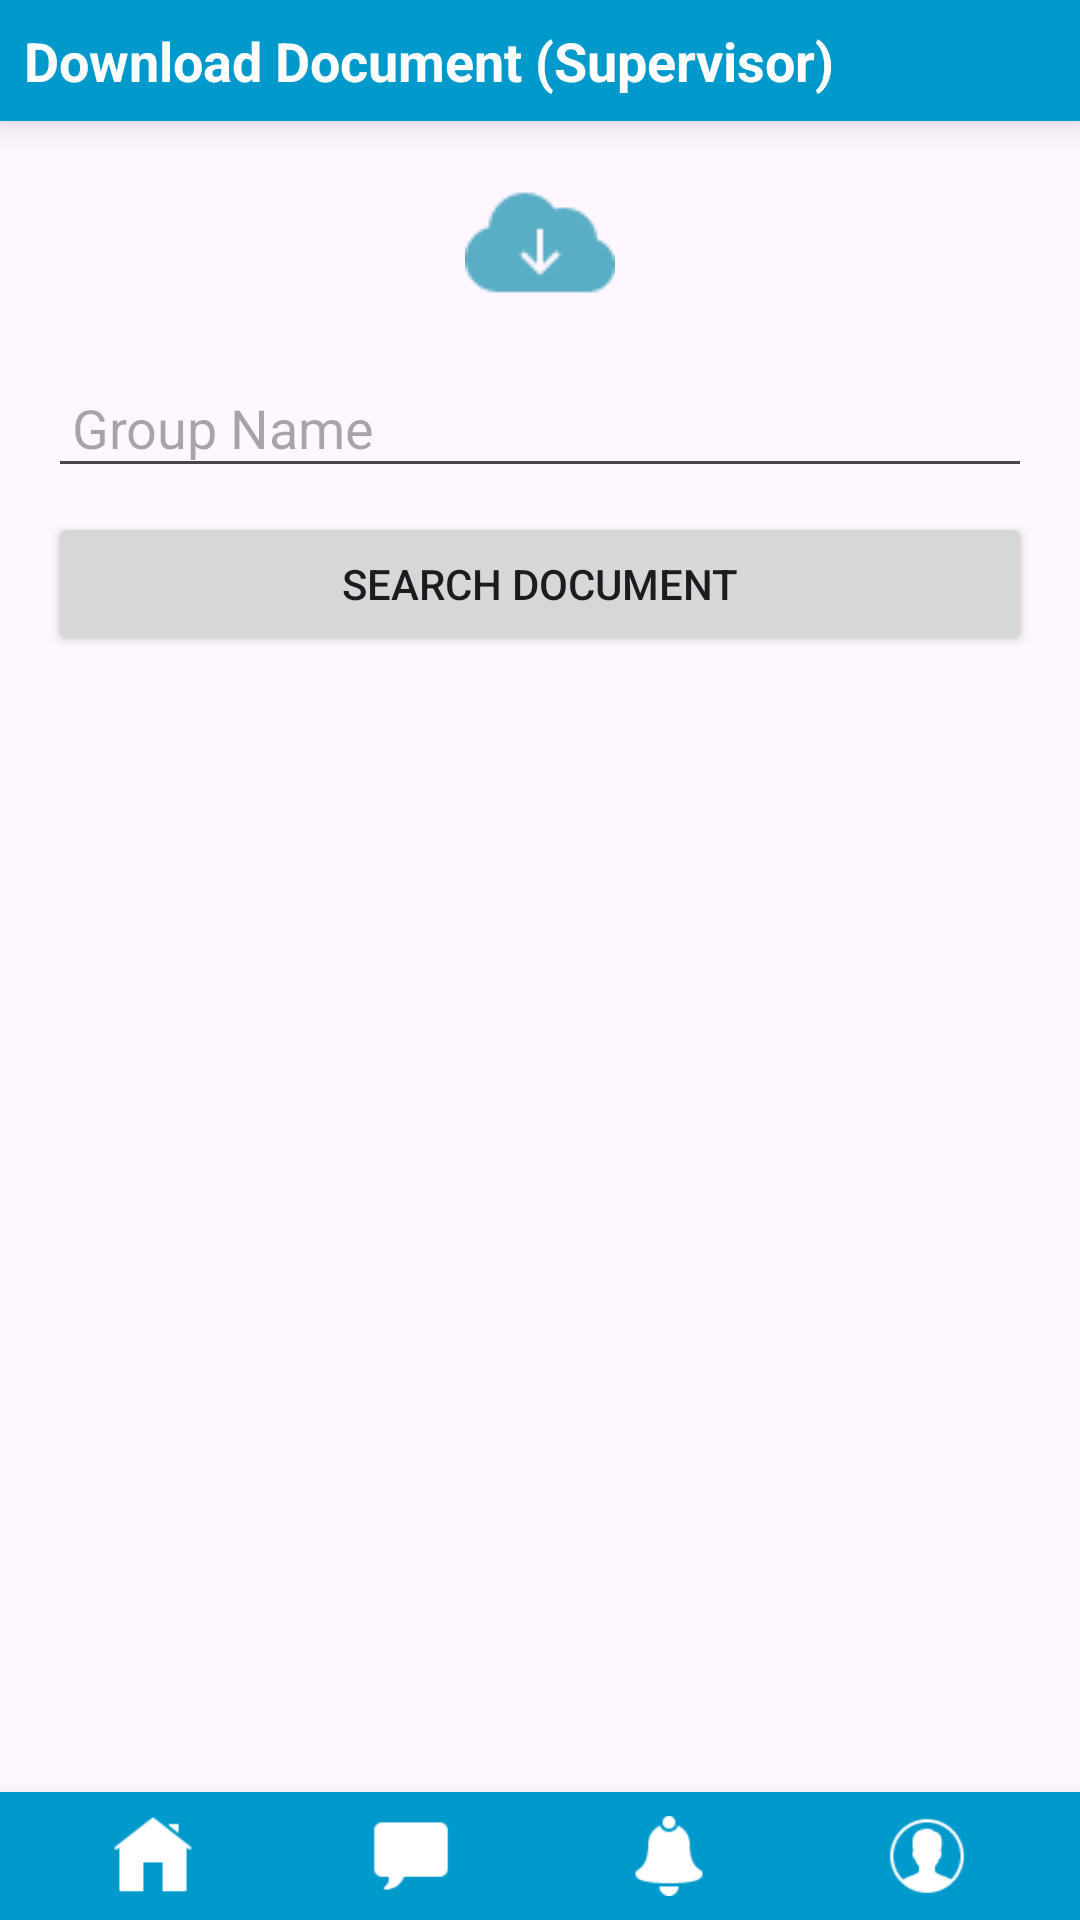

Point at icon controls on the screen. Image size 1080w x 1920h, points as (x,y).
chat: (411,1856)
home: (153,1854)
noti: (669,1856)
profile: (927,1856)
